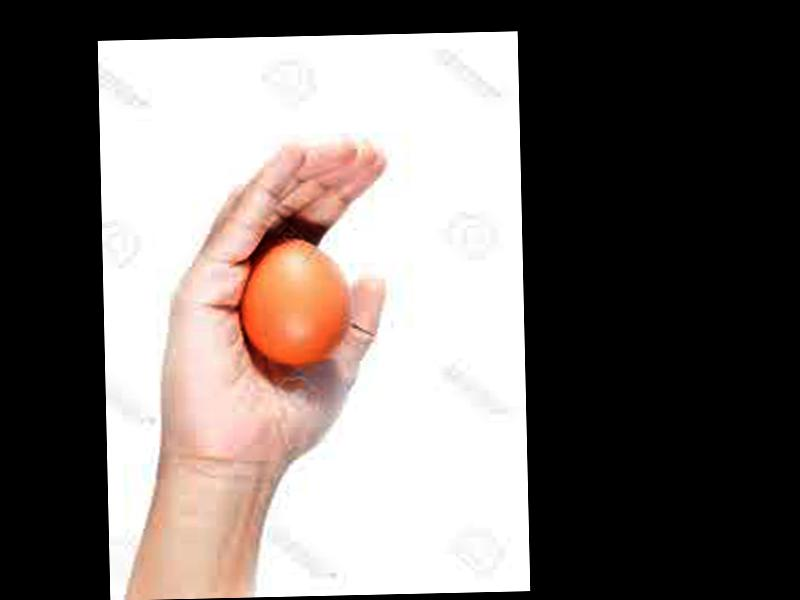Eggs: (241, 239, 350, 365)
